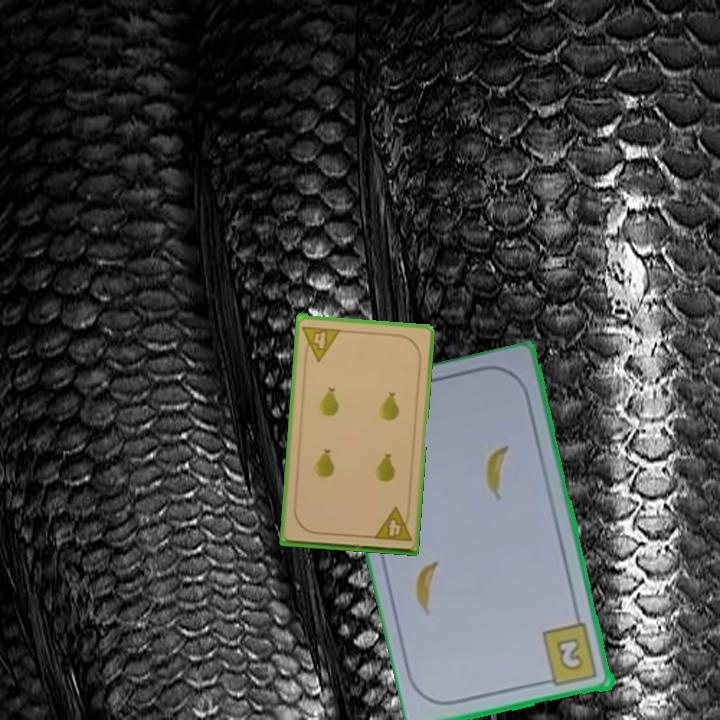2b: (539, 620, 601, 690)
4p: (299, 322, 344, 363), (370, 504, 414, 544)
